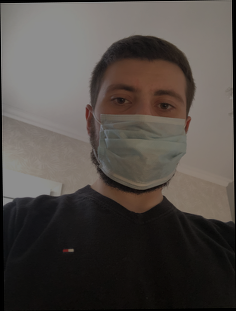with_mask: (90, 78, 188, 196)
